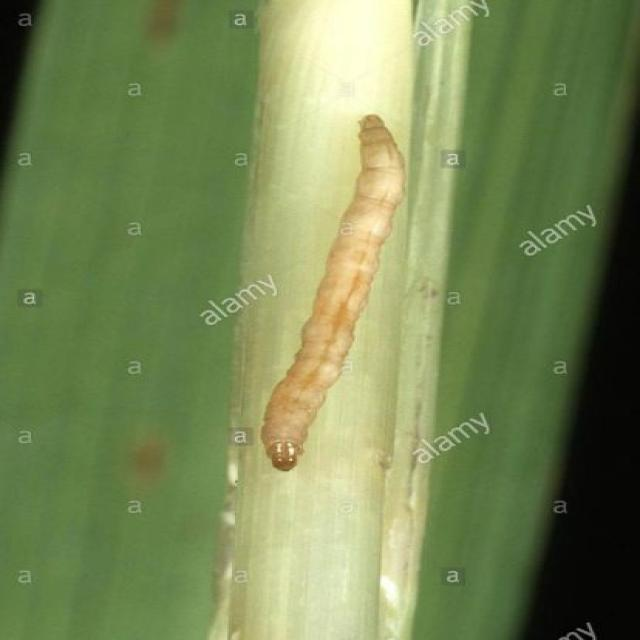yellow-stem-borer-larva: (246, 95, 426, 480)
